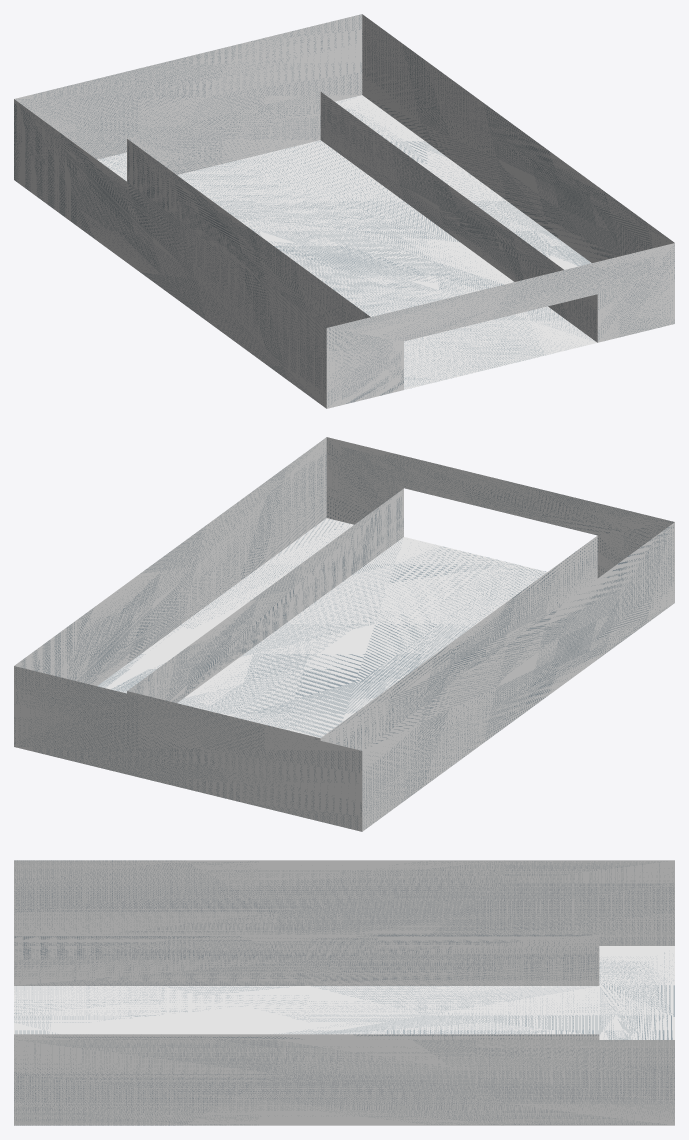
Rendered from lock2.fbx.
3 renders of one model, top to bottom at view 1: azimuth 30°, elevation 25°; view 2: azimuth 150°, elevation 25°; view 3: azimuth 270°, elevation 25°, orthographic. The views are drawn at different scales.
Parts seen in each view (by area): view 1: Model; view 2: Model; view 3: Model.
Part boxes in pixels (<box>): Model: <box>14,14,674,408</box>; Model: <box>14,437,674,831</box>; Model: <box>14,860,674,1125</box>.
Bounding box in the file's own units: 225 × 50 × 350.
